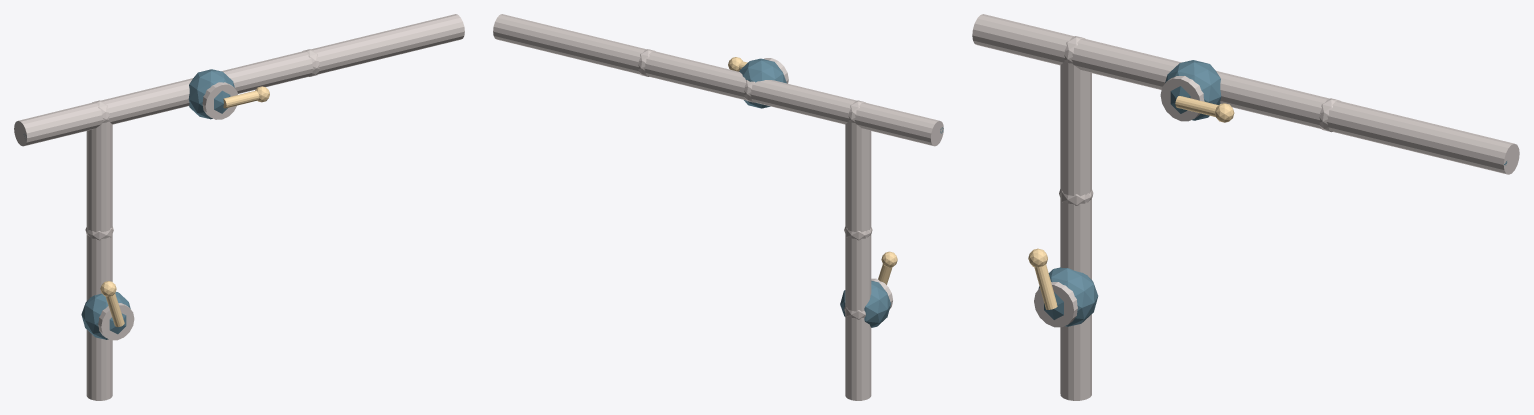
File: plant-10-0.glb
The picture shows the model from 3 angles, left to right: view 1: azimuth 30°, elevation 25°; view 2: azimuth 150°, elevation 25°; view 3: azimuth 330°, elevation 25°; orthographic projection. The views are drawn at different scales.
Visible parts, largest first — view 1: pipe, dark, handle; view 2: pipe, dark, handle; view 3: pipe, dark, handle.
Boxes of the visible parts, x1,y1,x2,y2 form: pipe: [14, 14, 464, 400]; dark: [23, 69, 234, 339]; handle: [100, 86, 269, 327]; pipe: [493, 14, 943, 400]; dark: [739, 58, 943, 327]; handle: [728, 57, 897, 284]; pipe: [972, 14, 1519, 400]; dark: [1038, 60, 1507, 326]; handle: [1028, 96, 1234, 309].
Bounding box in the file's own units: 2.77 × 1.84 × 0.343.
